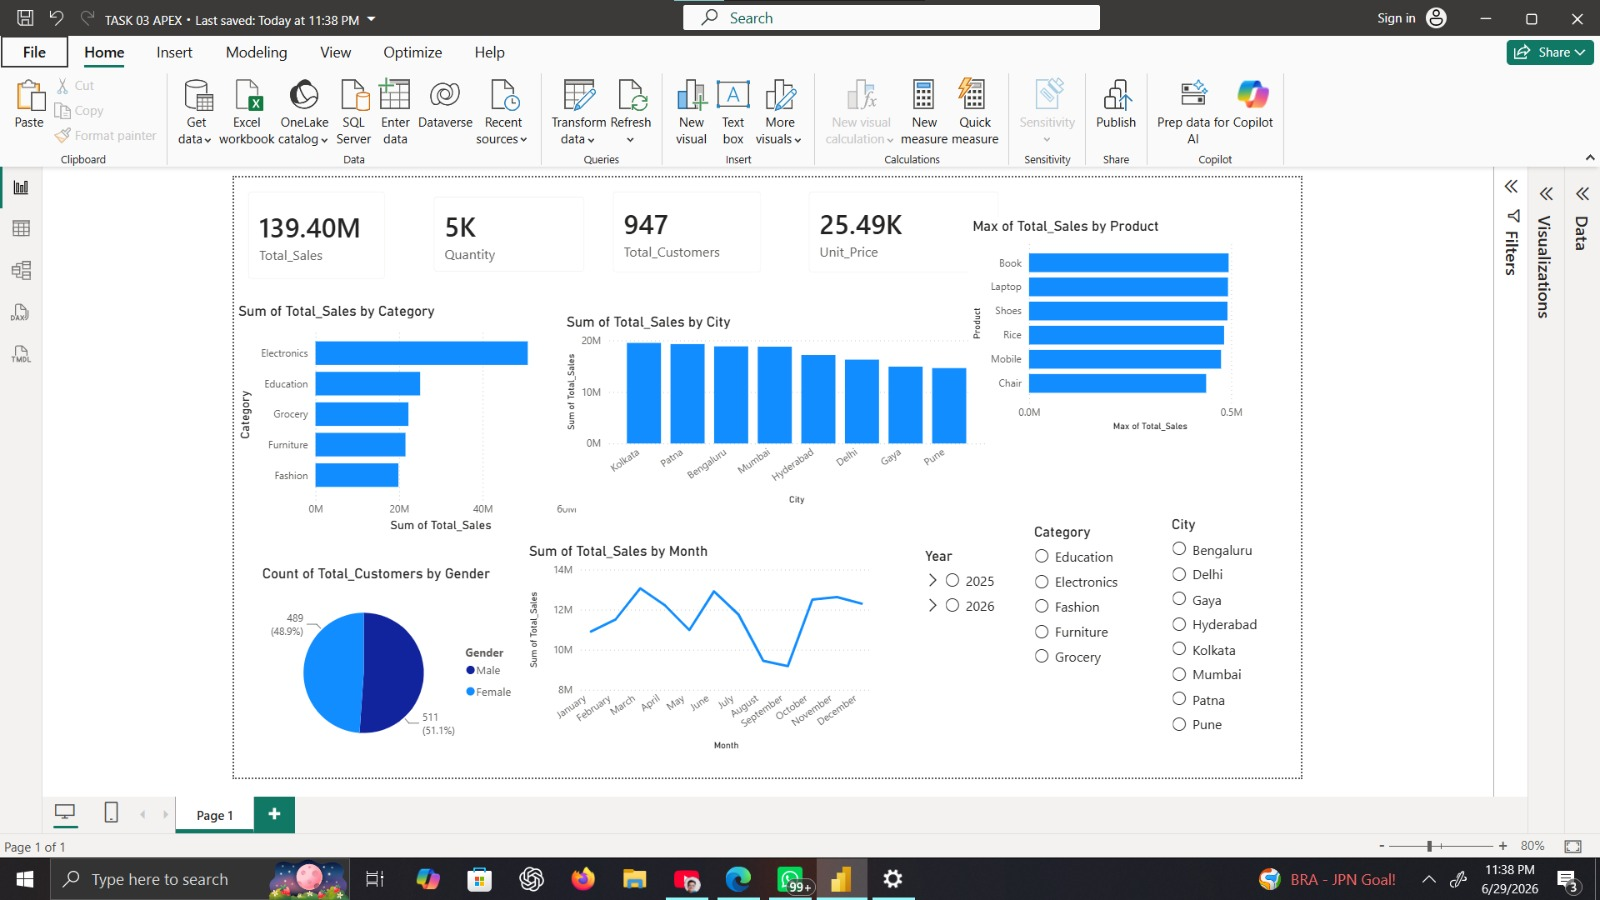

The page's visual inventory and layout, read from the dashboard file:
{"tool":"powerbi","page":{"name":"Page 1","canvas":[1280,720],"ordinal":0},"visuals":[{"type":"cardVisual","fields":{"Data":["Sum(Sheet1.Total_Sales)"]},"box":[0,0,199,140],"z":0},{"type":"cardVisual","fields":{"Data":["Sum(Sheet1.Quantity)"]},"box":[222.3,6.9,215.4,124.9],"z":1000},{"type":"cardVisual","fields":{"Data":["Count(Sheet1.Customer_ID)"]},"box":[437.7,0,212.7,131.7],"z":2000},{"type":"cardVisual","fields":{"Data":["Avg(Sheet1.Unit_Price)"]},"box":[672.4,0,262.1,131.7],"z":3000},{"type":"clusteredBarChart","fields":{"Category":["Sheet1.Category"],"Y":["Sum(Sheet1.Total_Sales)"]},"box":[0,149.6,415.8,279.9],"z":4000},{"type":"clusteredColumnChart","fields":{"Category":["Sheet1.City"],"Y":["Sum(Sheet1.Total_Sales)"]},"box":[393.8,161.9,511.8,234.6],"z":5000},{"type":"lineChart","fields":{"Category":["Sheet1.Order_Date.Variation.Date Hierarchy.Month"],"Y":["Sum(Sheet1.Total_Sales)"]},"box":[348.5,437.7,421.3,255.2],"z":6000},{"type":"clusteredBarChart","fields":{"Category":["Sheet1.Product"],"Y":["Max(Sheet1.Total_Sales)"]},"box":[881,48,382.8,262.1],"z":7000},{"type":"pieChart","fields":{"Category":["Sheet1.Gender"],"Y":["CountNonNull(Sheet1.Customer_ID)"]},"box":[28.8,465.2,319.7,240.1],"z":8000},{"type":"listSlicer","fields":{"Values":["Sheet1.Category"]},"box":[955.5,415.5,165.1,281.5],"z":9000},{"type":"listSlicer","fields":{"Values":["Sheet1.City"]},"box":[1120.6,406,143.5,299.1],"z":10000},{"type":"listSlicer","fields":{"Values":["Sheet1.Order_Date.Variation.Date Hierarchy.Year","Sheet1.Order_Date.Variation.Date Hierarchy.Quarter","Sheet1.Order_Date.Variation.Date Hierarchy.Month","Sheet1.Order_Date.Variation.Date Hierarchy.Day"]},"box":[824.2,443.9,111,121.8],"z":11000}]}

Visuals, with their boxes on the page's 1280x720 design canvas (x1, y1, x2, y2). These are canvas units, not pixel positions in the 1600x900 screenshot, which may show the page scaled, cropped or inside an application window:
cardVisual - Sum(Sheet1.Total_Sales): region(0, 0, 199, 140)
cardVisual - Sum(Sheet1.Quantity): region(222, 7, 438, 132)
cardVisual - Count(Sheet1.Customer_ID): region(438, 0, 650, 132)
cardVisual - Avg(Sheet1.Unit_Price): region(672, 0, 934, 132)
clusteredBarChart - Sheet1.Category x Sum(Sheet1.Total_Sales): region(0, 150, 416, 430)
clusteredColumnChart - Sheet1.City x Sum(Sheet1.Total_Sales): region(394, 162, 906, 396)
lineChart - Sheet1.Order_Date.Variation.Date Hierarchy.Month x Sum(Sheet1.Total_Sales): region(348, 438, 770, 693)
clusteredBarChart - Sheet1.Product x Max(Sheet1.Total_Sales): region(881, 48, 1264, 310)
pieChart - Sheet1.Gender x CountNonNull(Sheet1.Customer_ID): region(29, 465, 348, 705)
listSlicer - Sheet1.Category: region(956, 416, 1121, 697)
listSlicer - Sheet1.City: region(1121, 406, 1264, 705)
listSlicer - Sheet1.Order_Date.Variation.Date Hierarchy.Year x Sheet1.Order_Date.Variation.Date Hierarchy.Quarter: region(824, 444, 935, 566)
